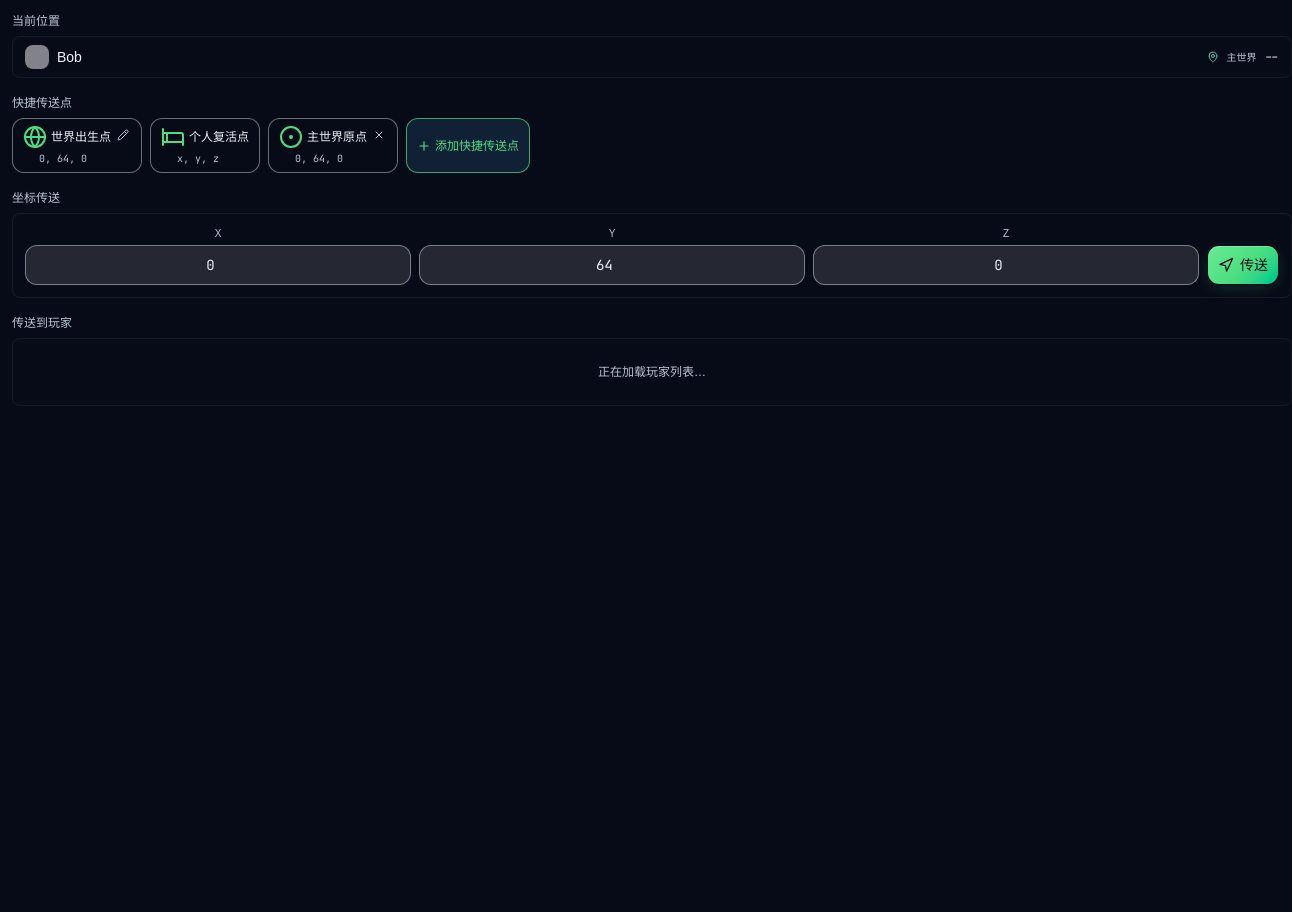
it: TeleportTab › 批量模式：全部离线时警告 toast 且不执行命令
Click the text "世界出生点".
click(67, 137)  # box x1=23 y1=125 x2=111 y2=149
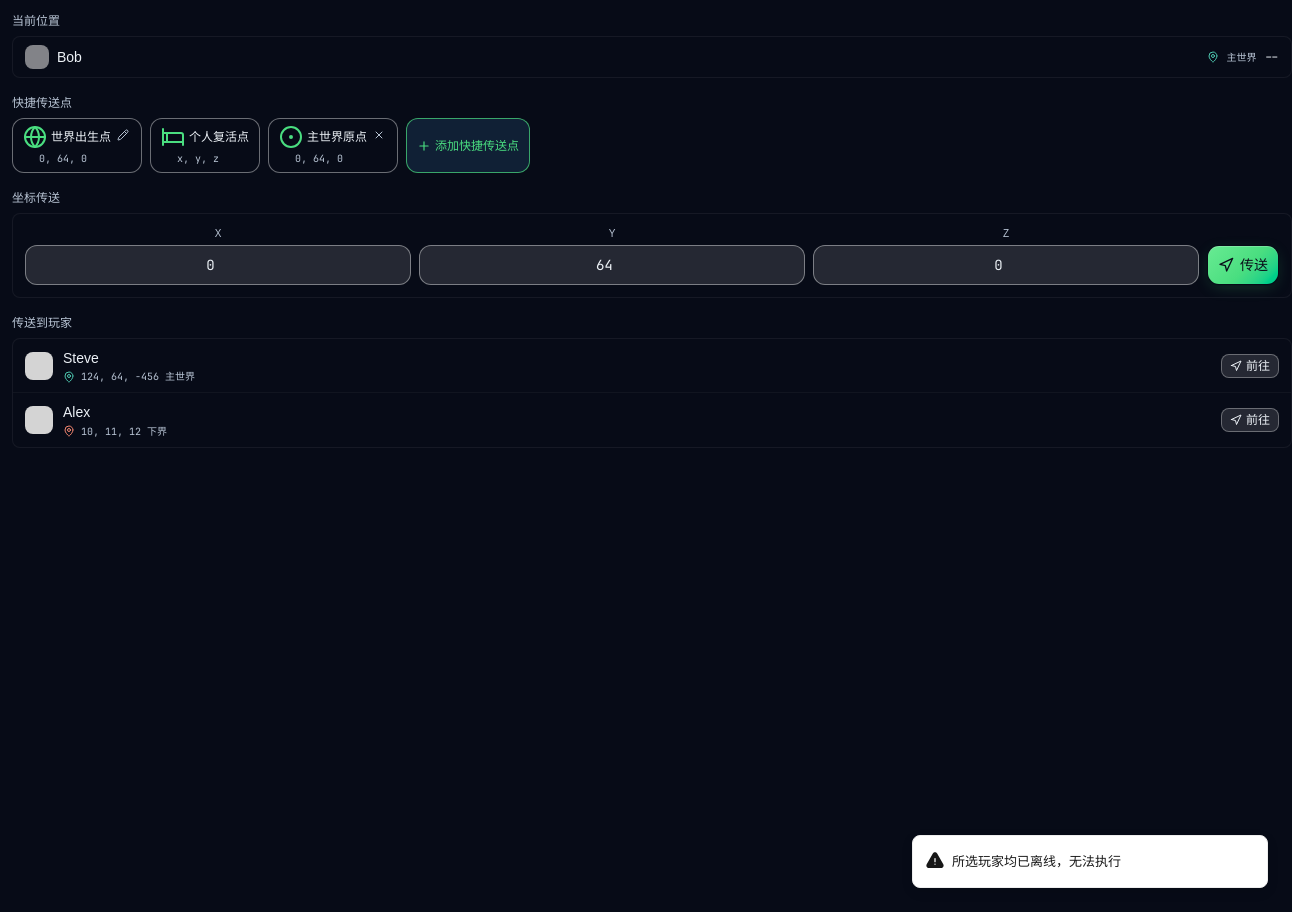
Expected: the text "所选玩家均已离线，无法执行" is shown, x1=952 y1=852 x2=1121 y2=871
